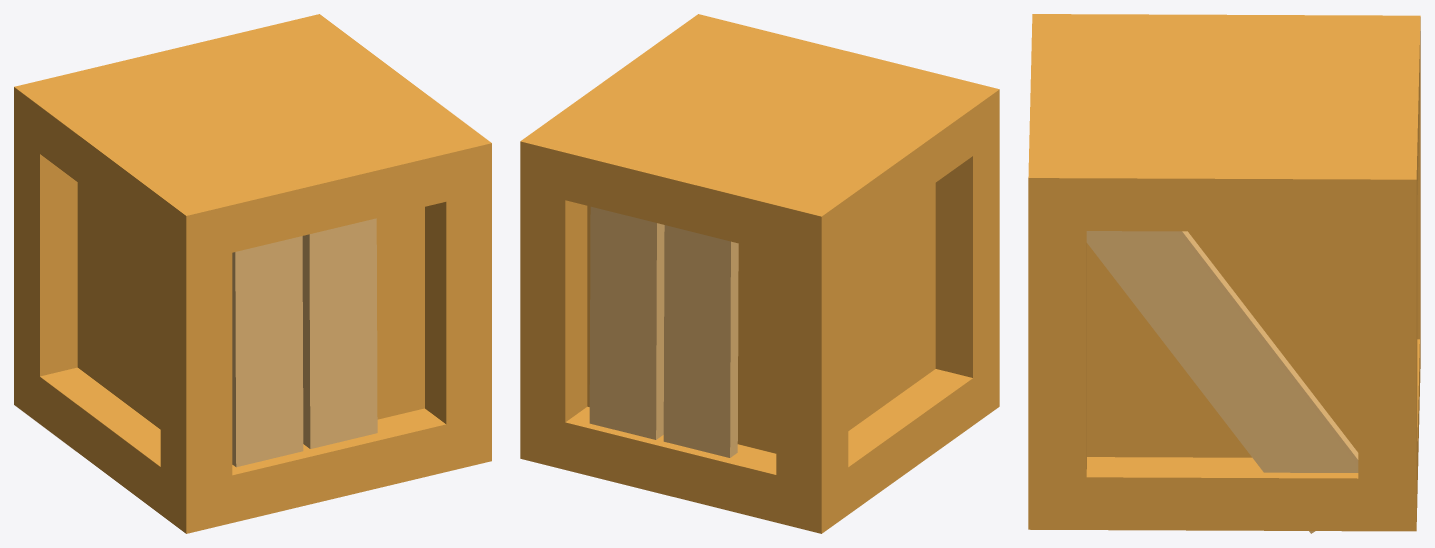
Rendered from Wooden_Crate.FBX.
3 renders of one model, left to right at view 1: azimuth 30°, elevation 25°; view 2: azimuth 150°, elevation 25°; view 3: azimuth 270°, elevation 25°, orthographic. The views are drawn at different scales.
Visible parts, largest first — view 1: Wooden_crate; view 2: Wooden_crate; view 3: Wooden_crate.
Boxes of the visible parts, x1,y1,x2,y2 form: Wooden_crate: [14, 14, 491, 533]; Wooden_crate: [520, 14, 999, 533]; Wooden_crate: [1028, 14, 1420, 533].
Bounding box in the file's own units: 19.88 × 20.15 × 19.88.
